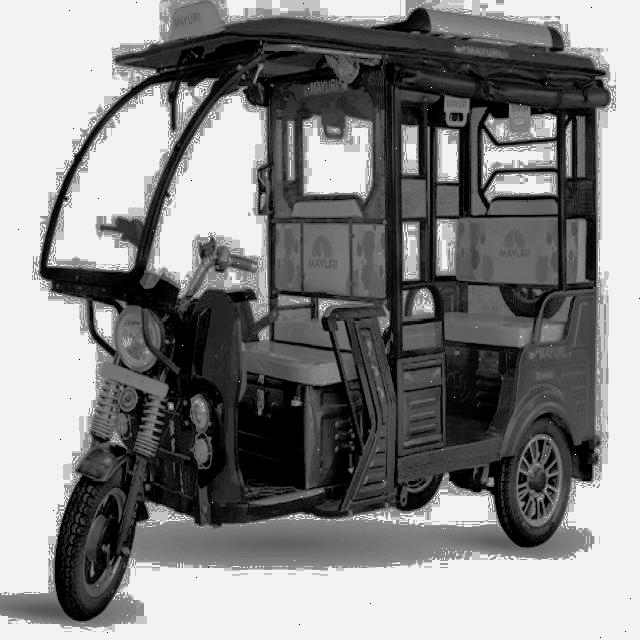Toto: (43, 15, 613, 619)
